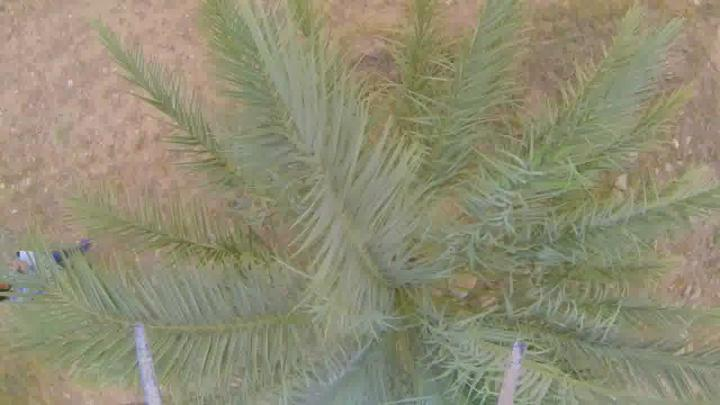Date-Palm-Crown: (226, 110, 636, 402)
